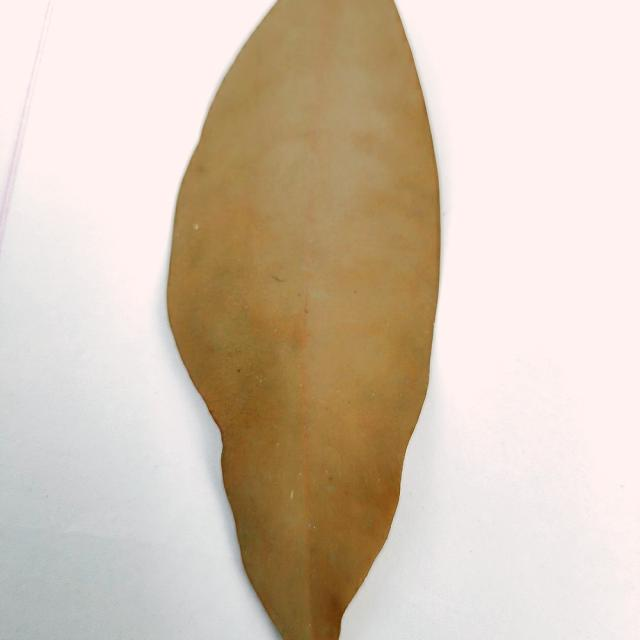Dry_Leaf-Lychee: (164, 0, 442, 639)
